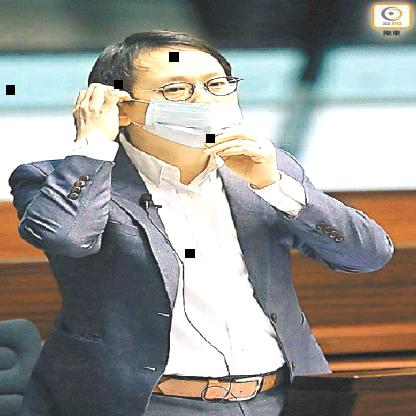mask: (78, 24, 255, 154)
